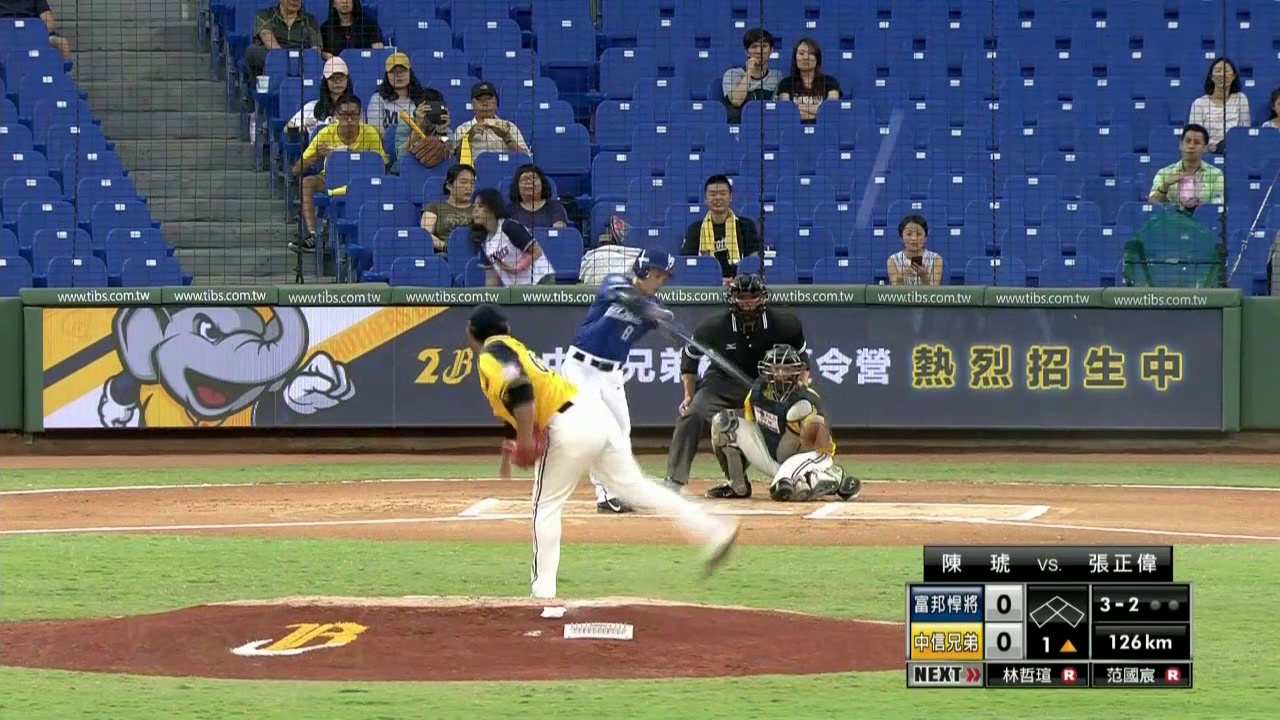ball: (865, 191, 877, 208)
base: (1028, 591, 1088, 633)
bat: (658, 316, 761, 393)
out: (1144, 592, 1182, 614)
score1: (990, 591, 1023, 617)
score2: (989, 626, 1024, 654)
session: (1032, 634, 1082, 658)
speed: (1097, 628, 1191, 655)
strikeball: (1095, 587, 1143, 617)
